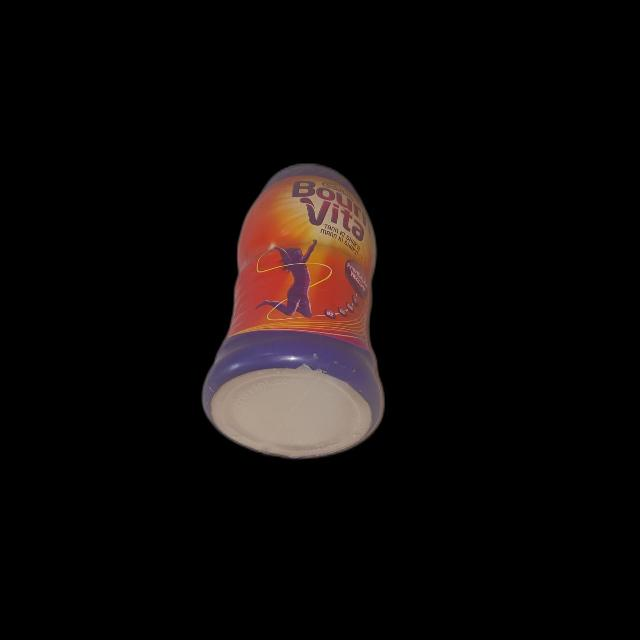Cadbury Bournvita Chocolate Health Drink-1kg-: (200, 154, 394, 454)
